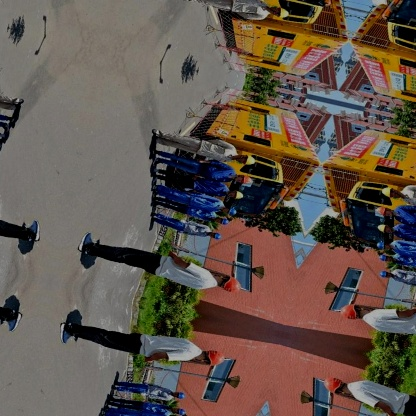blue: (227, 205, 241, 217), (212, 230, 225, 241), (220, 216, 232, 227)
red: (221, 272, 246, 294), (241, 173, 255, 187)
yellow: (242, 152, 261, 169), (233, 188, 247, 202)
